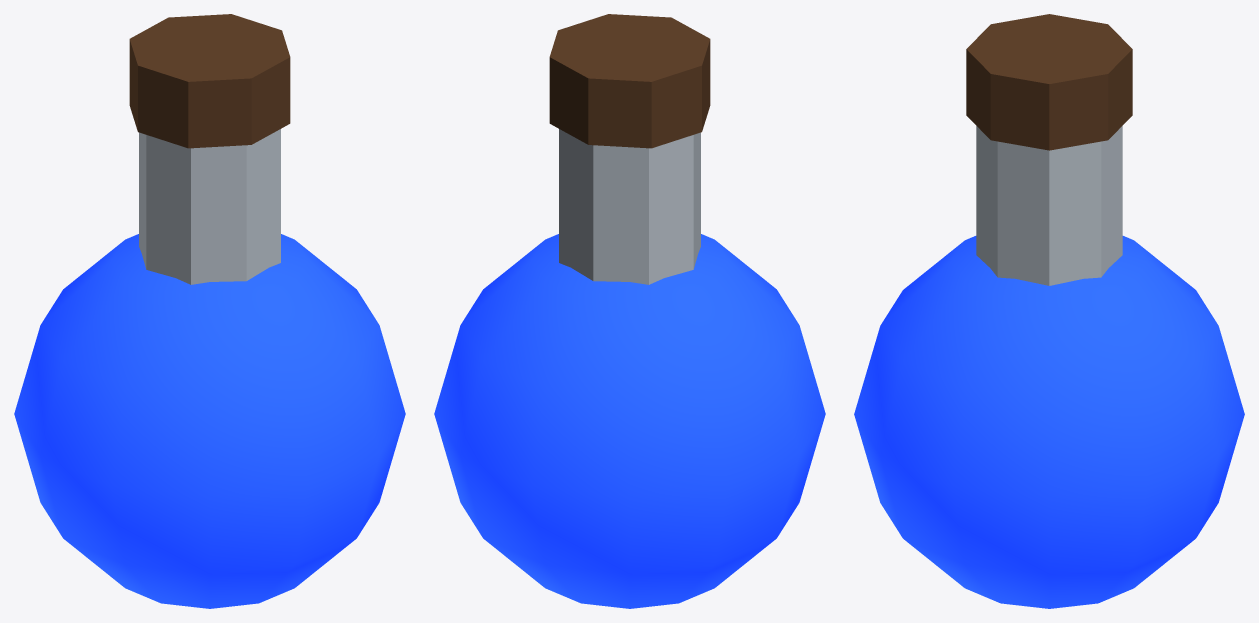
File: item_potion_blue.glb
3 renders of one model, left to right at view 1: azimuth 30°, elevation 25°; view 2: azimuth 150°, elevation 25°; view 3: azimuth 270°, elevation 25°, orthographic.
Parts seen in each view (by area): view 1: potion_blue; view 2: potion_blue; view 3: potion_blue.
Boxes of the visible parts, left/top/right/bottom form: potion_blue: left=14, top=14, right=405, bottom=608; potion_blue: left=434, top=14, right=825, bottom=608; potion_blue: left=854, top=14, right=1244, bottom=608.
Size of the model in its own units: 0.16 by 0.245 by 0.16.
